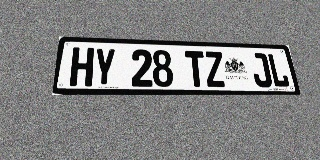2: (132, 49, 152, 87)
8: (152, 50, 173, 87)
H: (69, 47, 94, 86)
J: (249, 53, 273, 87)
L: (267, 53, 290, 87)
T: (185, 51, 207, 87)
Y: (93, 48, 116, 86)
Z: (204, 51, 226, 87)
